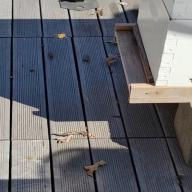Bee: (50, 29, 70, 43)
